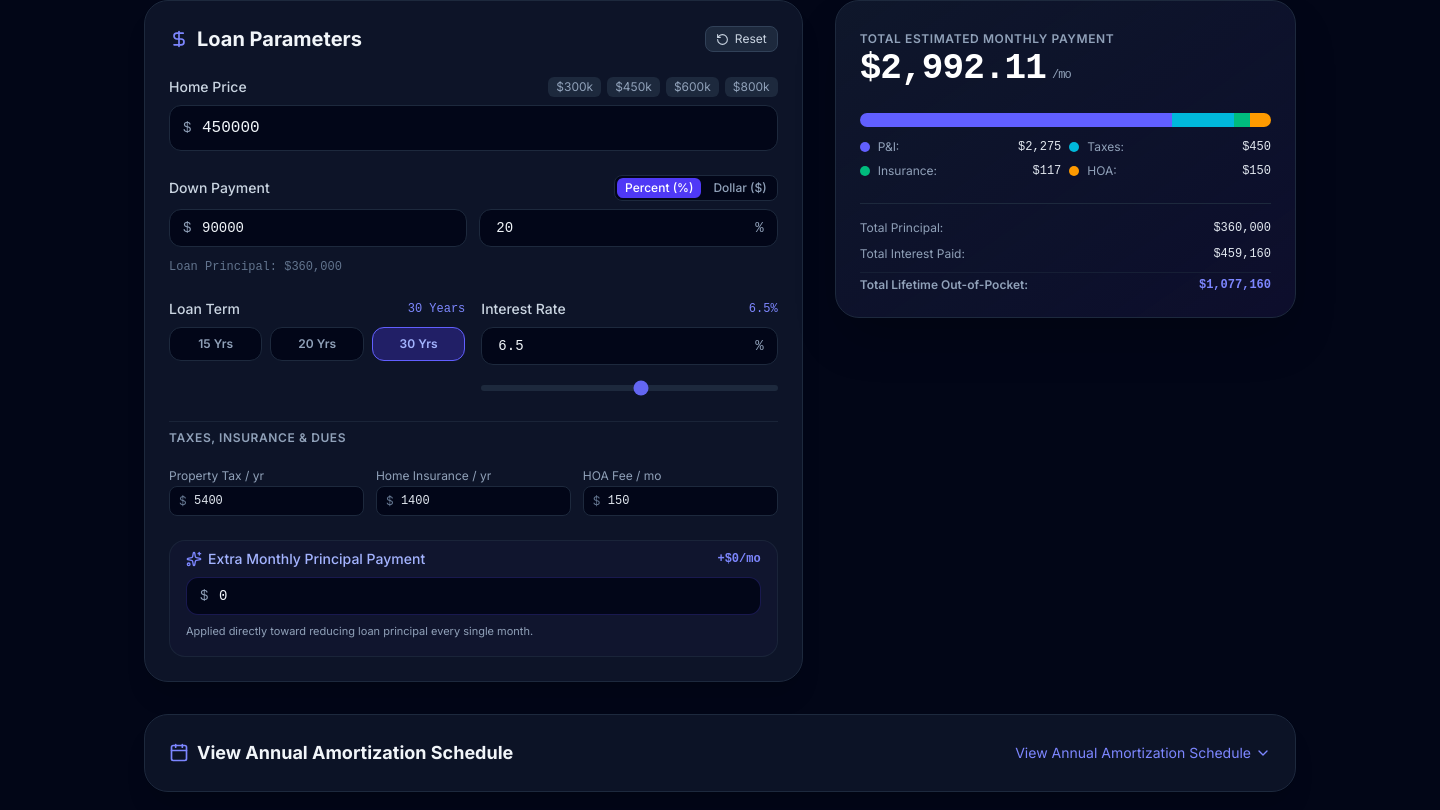
OmniCalc Acceptance Test Suite (Stories S-1 to S-7) › Story S-4: Extra Principal & Amortization › models extra monthly payment impact: $200 extra monthly payment shows savings highlight
Replace the text in the number field showing "0" below "Extra Monthly Principal Payment" with "200": coordinates (473, 596) [186,577,761,615]
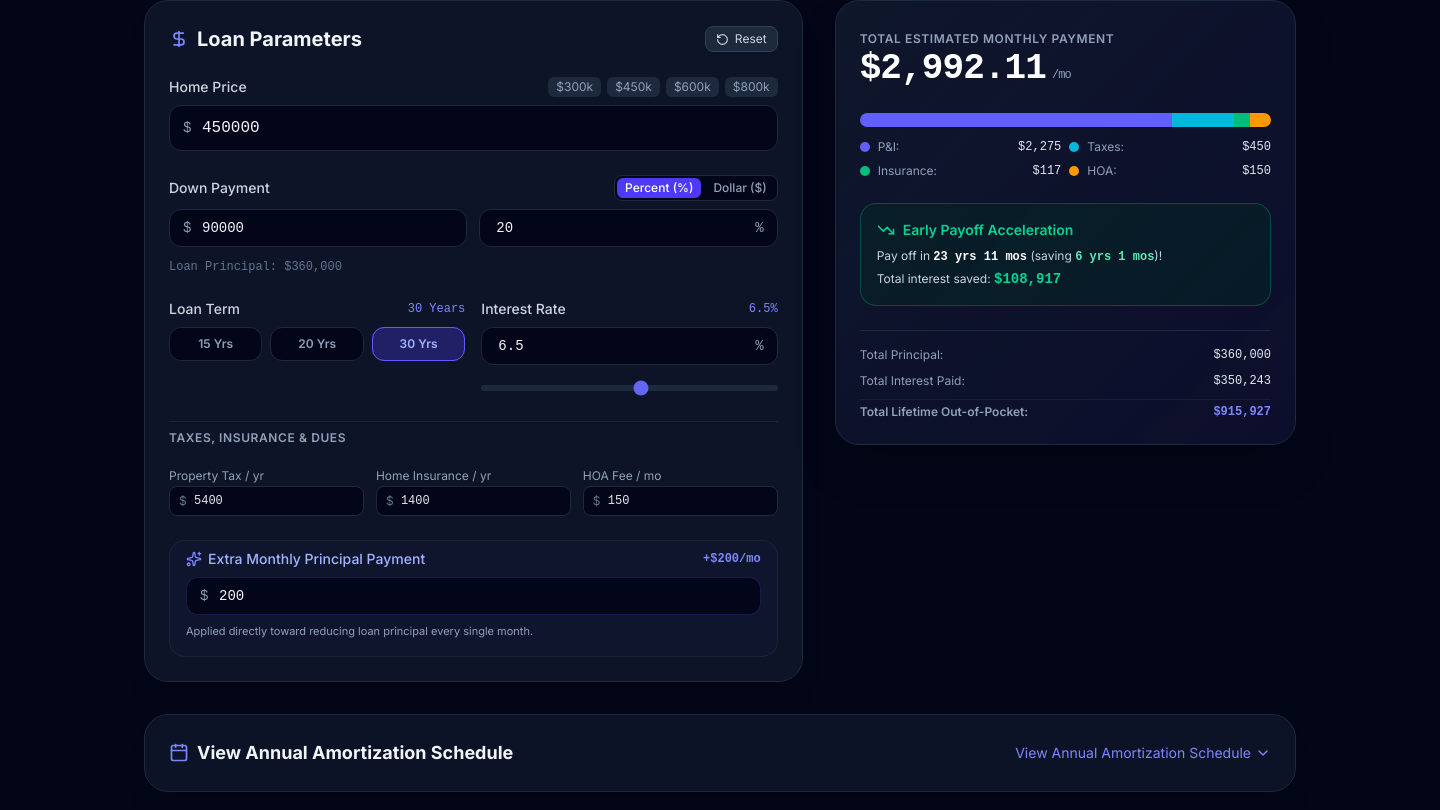
Expected: the text "Early Payoff Acceleration" is shown, [877,221,1073,239]
Expected: the text "Total interest saved: $108,917" is shown, [877,271,1061,287]
